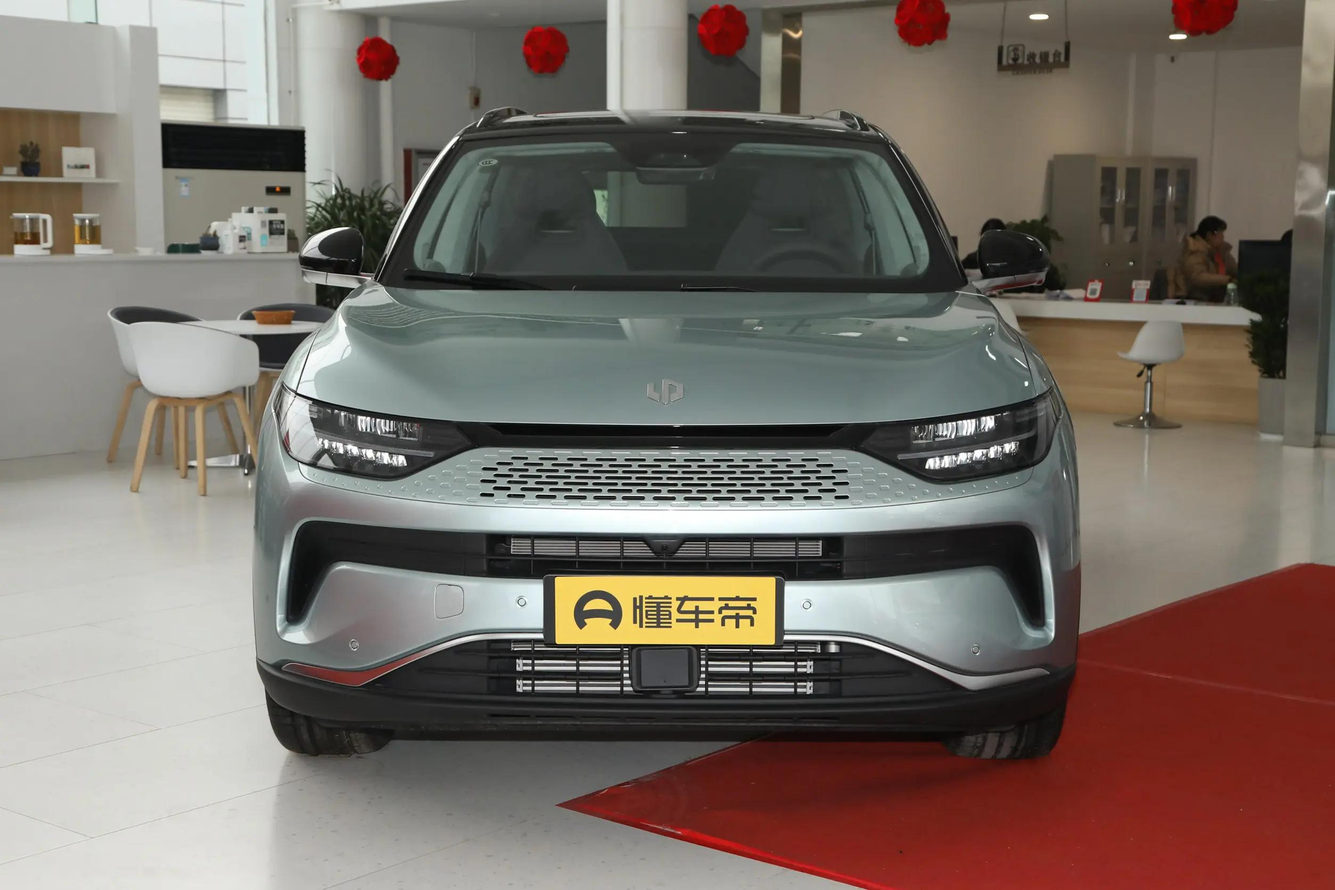LEAPMOTOR: (646, 380, 685, 404)
